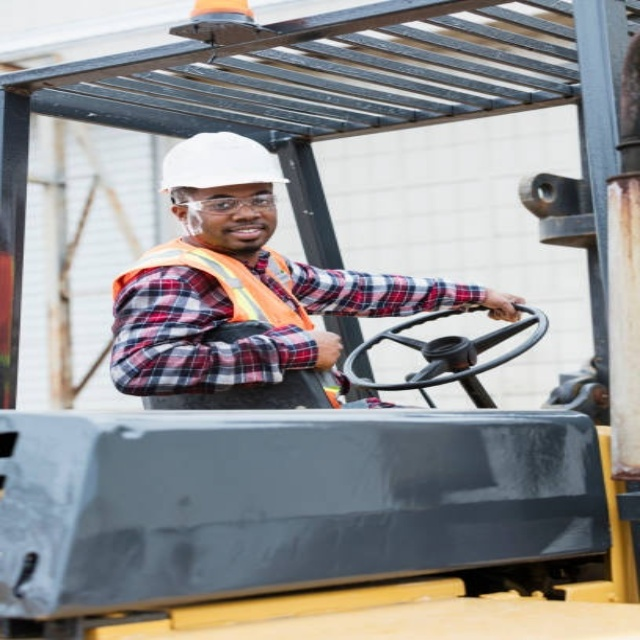Gafas: (181, 193, 278, 214)
Sin_guantes: (475, 290, 528, 321), (306, 329, 345, 370)
Sin_mascara: (220, 222, 267, 246)
